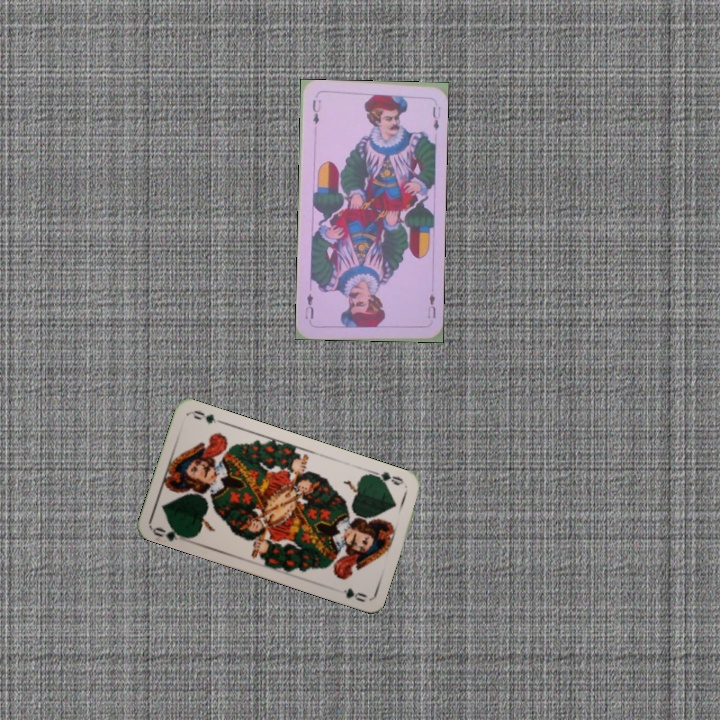EU: (423, 289, 438, 321), (308, 96, 323, 127)
GO: (149, 522, 190, 543), (367, 467, 406, 488)
